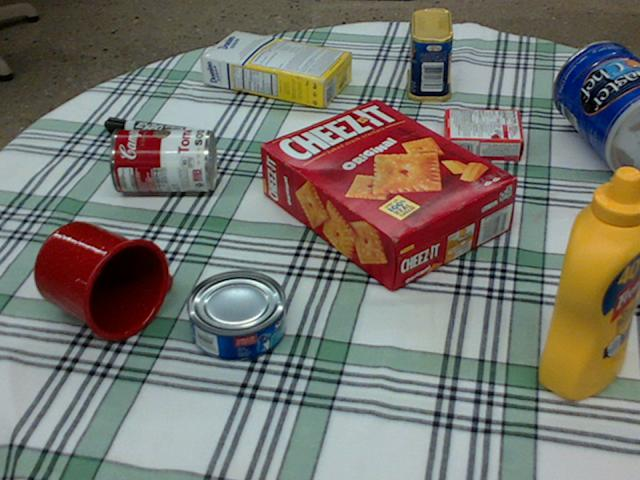cracker_box: (262, 98, 517, 288)
gelatin_box: (441, 106, 522, 159)
large_marker: (103, 117, 200, 142)
master_chef_can: (550, 42, 639, 180)
mug: (33, 221, 169, 340)
mustard_bottle: (539, 165, 639, 397)
potted_meat_can: (405, 7, 452, 100)
sugar_box: (200, 31, 353, 106)
tomato_soup_can: (109, 127, 216, 191)
tuna_fish_can: (184, 270, 285, 361)
